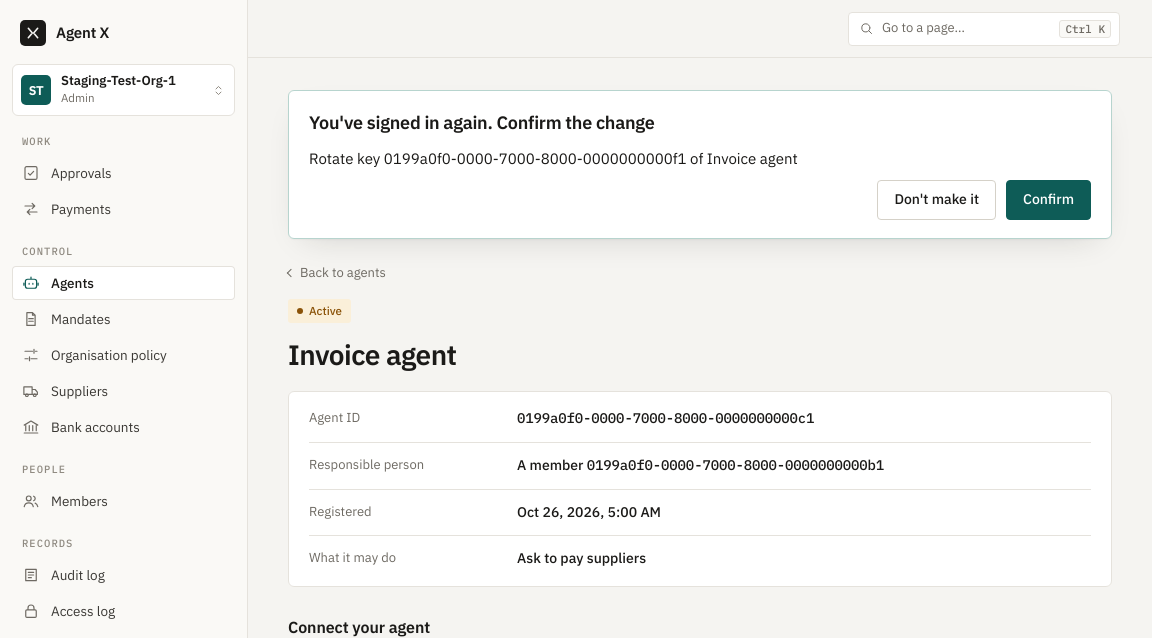
Test case: a new key, shown once (6D1) › holds switching organisation while the key is on screen, and lets it go after Done
Click the button "Confirm" at (1048, 200), box [1006, 180, 1091, 220]
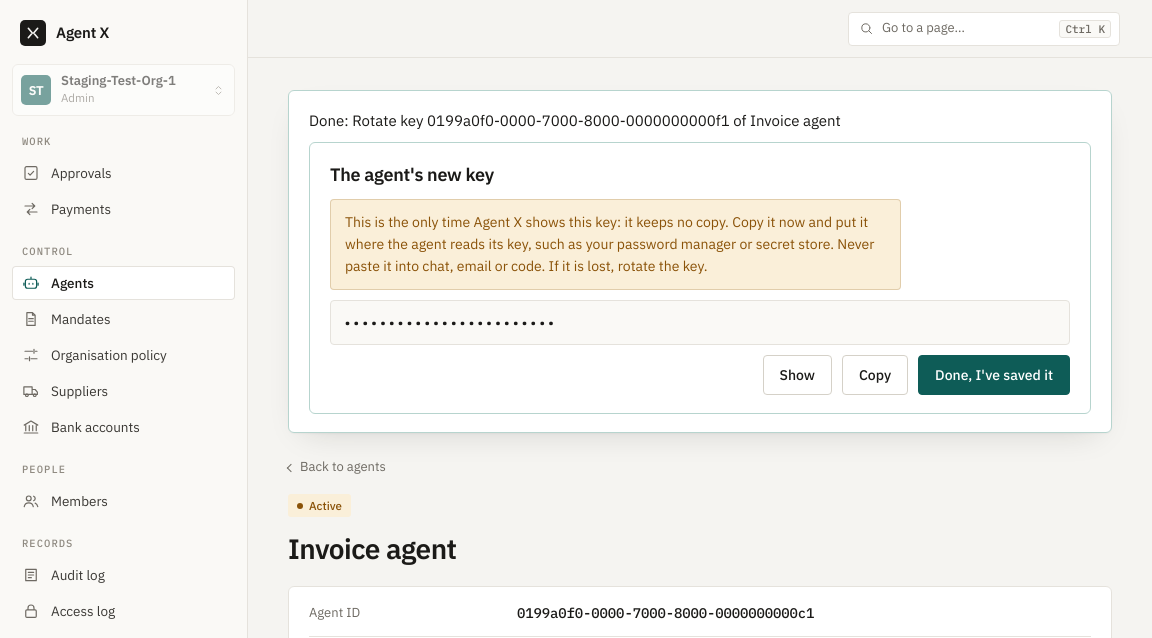
Check: the button with aria-label "Switch organisation" is disabled, box [12, 64, 235, 116]
Click the button "Done, I've saved it" at (994, 376), box [918, 356, 1070, 396]
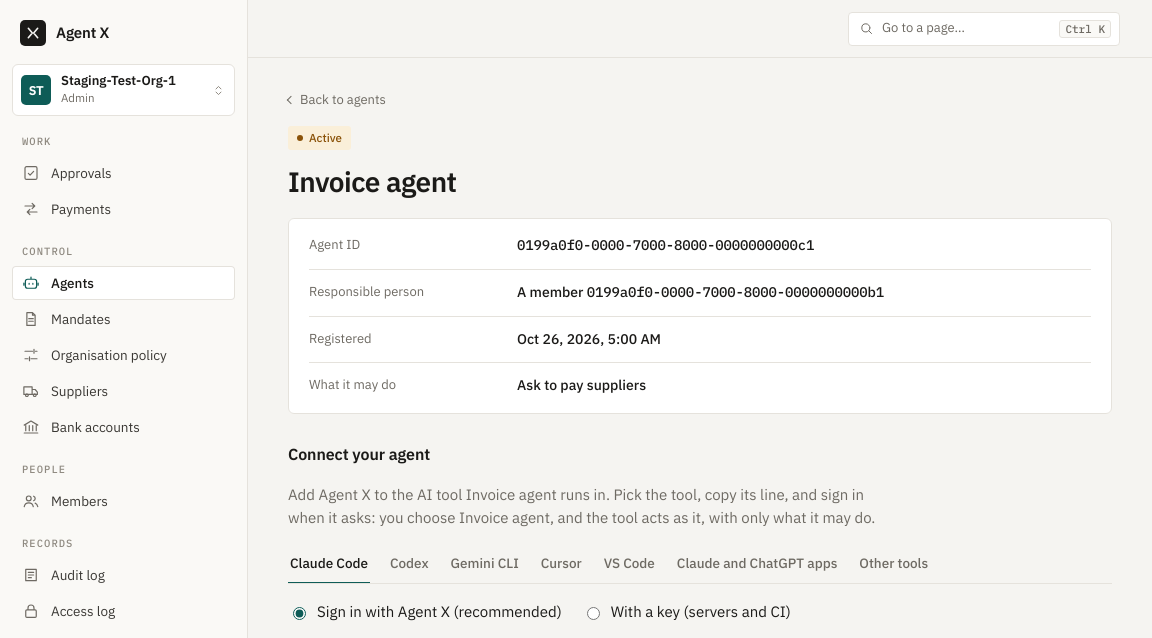
Check: the button with aria-label "Switch organisation" is enabled, box [12, 64, 235, 116]
